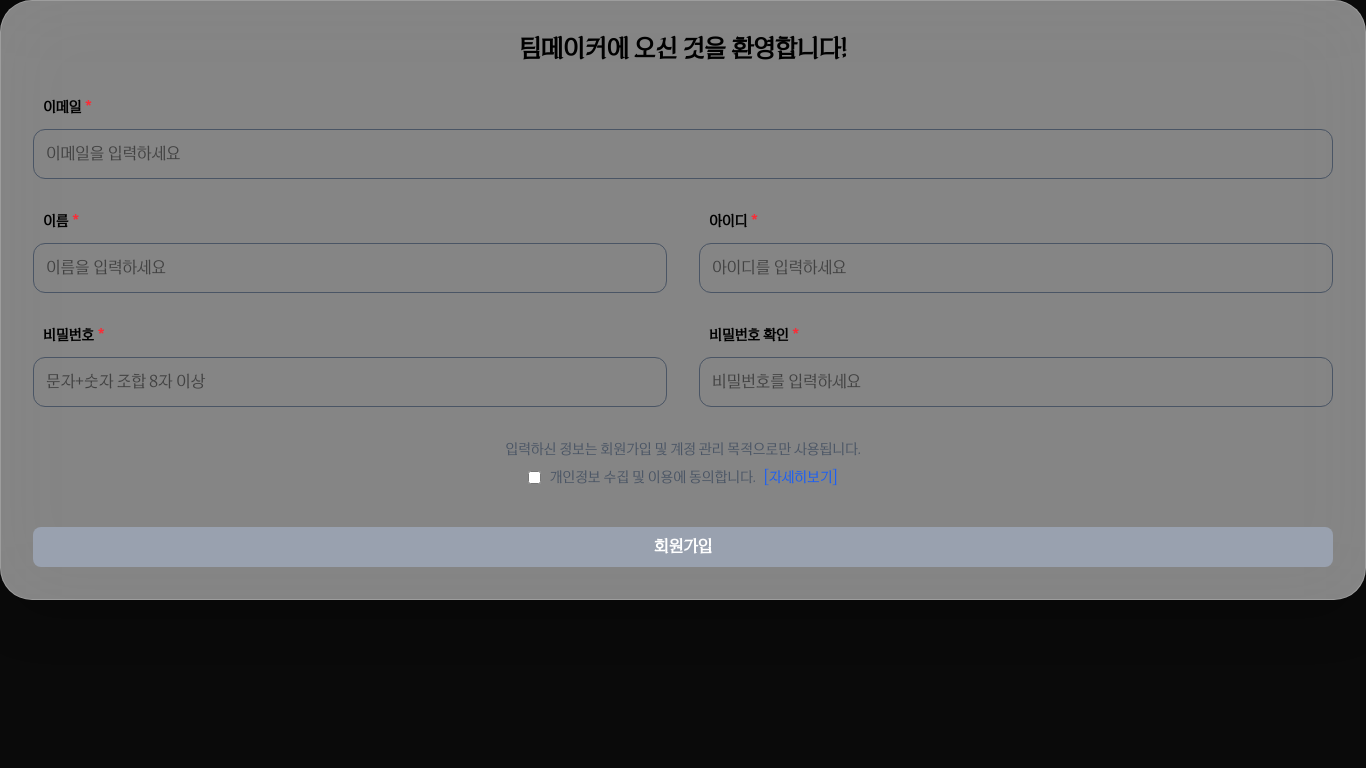
Test: SignUp Component › 개인정보 동의 체크박스를 체크하면 버튼이 활성화되어야 한다
Click the checkbox at coordinates (535, 477), box [528, 470, 542, 484]
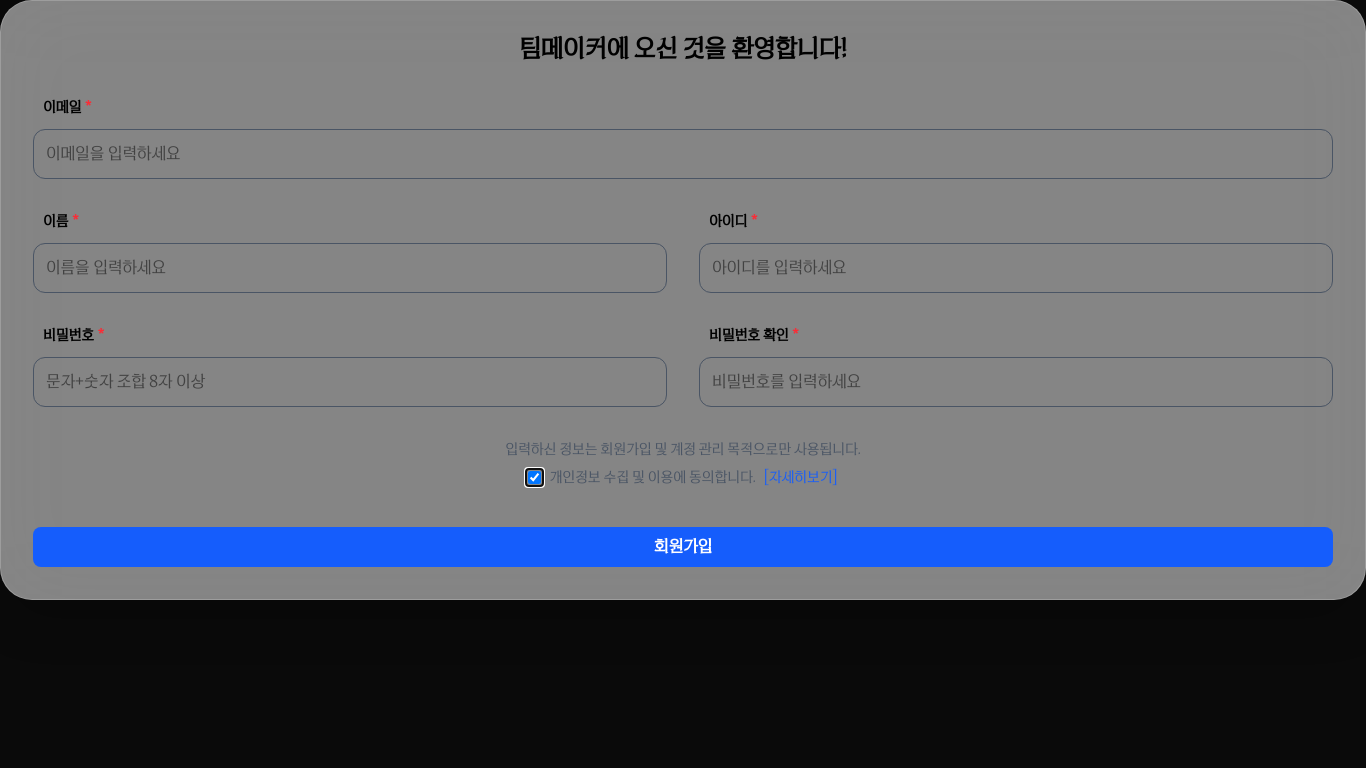
Result: the button "회원가입" is enabled at [33, 527, 1333, 567]
